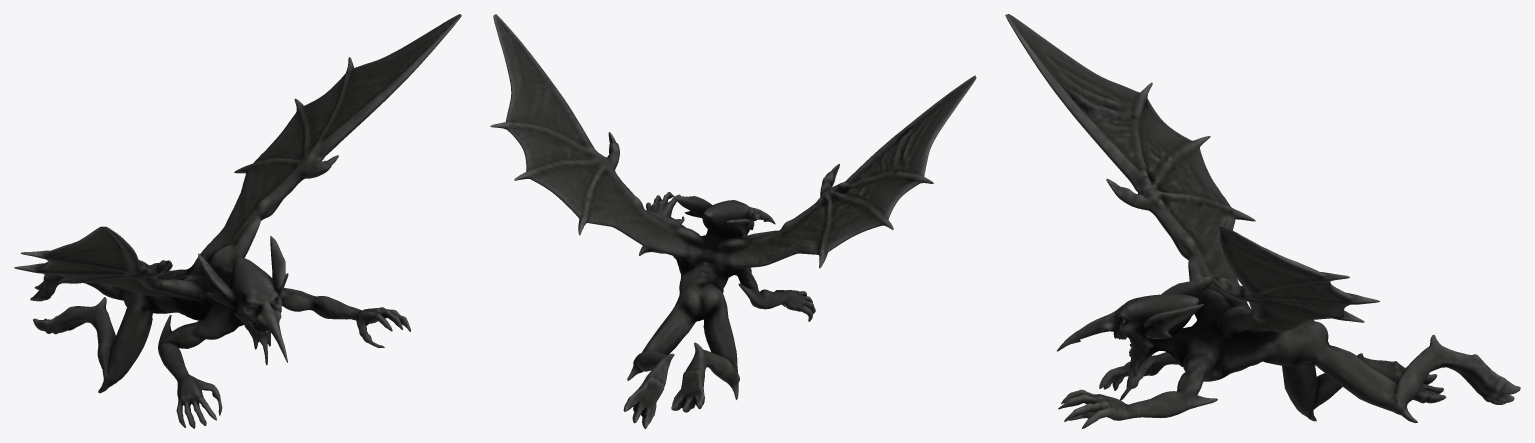
Rendered from MZ4250 - Smoke Mephit_4 2025.glb.
3 views of the same model, side by side, from view 1: azimuth 30°, elevation 25°; view 2: azimuth 150°, elevation 25°; view 3: azimuth 270°, elevation 25° (orthographic). The views are drawn at different scales.
Parts seen in each view (by area): view 1: Cylinder.001; view 2: Cylinder.001; view 3: Cylinder.001.
Boxes of the visible parts, x1=… form: Cylinder.001: x1=14, y1=14, x2=461, y2=428; Cylinder.001: x1=490, y1=14, x2=976, y2=428; Cylinder.001: x1=1005, y1=14, x2=1520, y2=428.
Bounding box in the file's own units: 123 × 82.81 × 105.
Materials: 1 (1 with a texture image).
